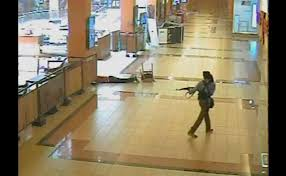rifle: (176, 87, 197, 92)
